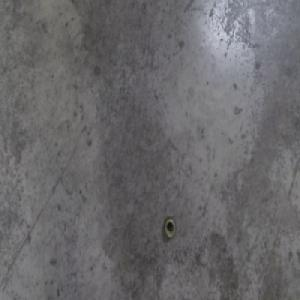Nut: (164, 215, 176, 240)
